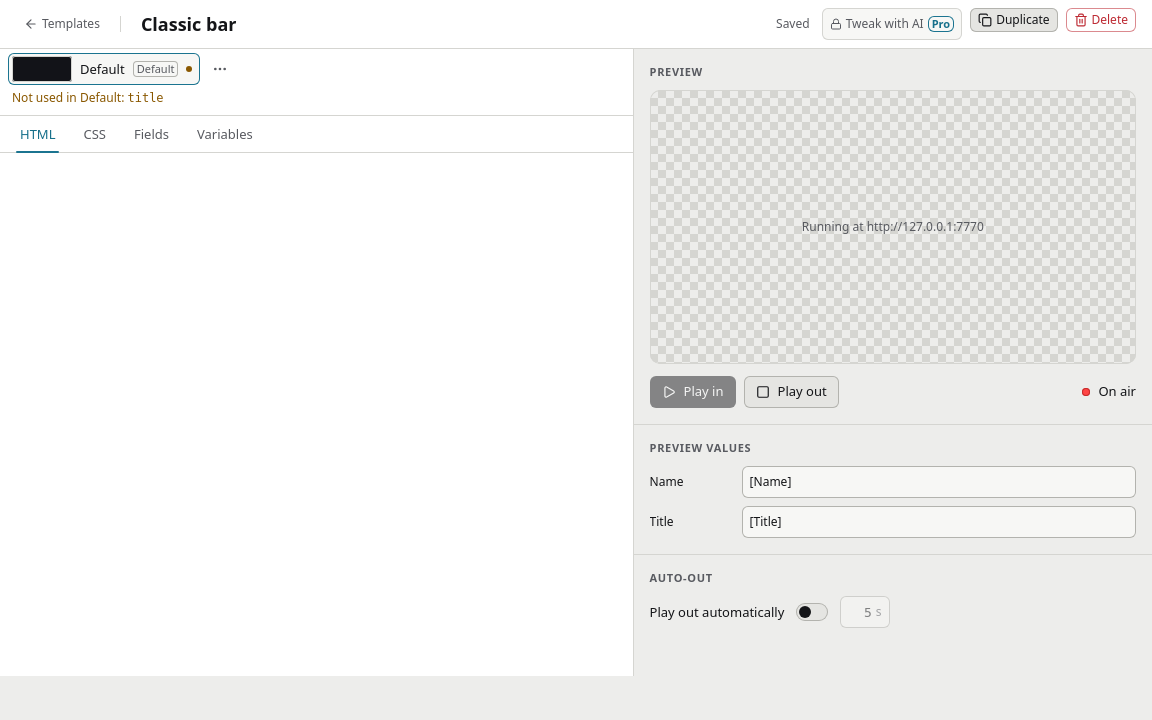
it: fields form › shows key validation messages
The width and height of the screenshot is (1152, 720).
Click the tab "Fields" at (152, 134), box [122,116,181,152]
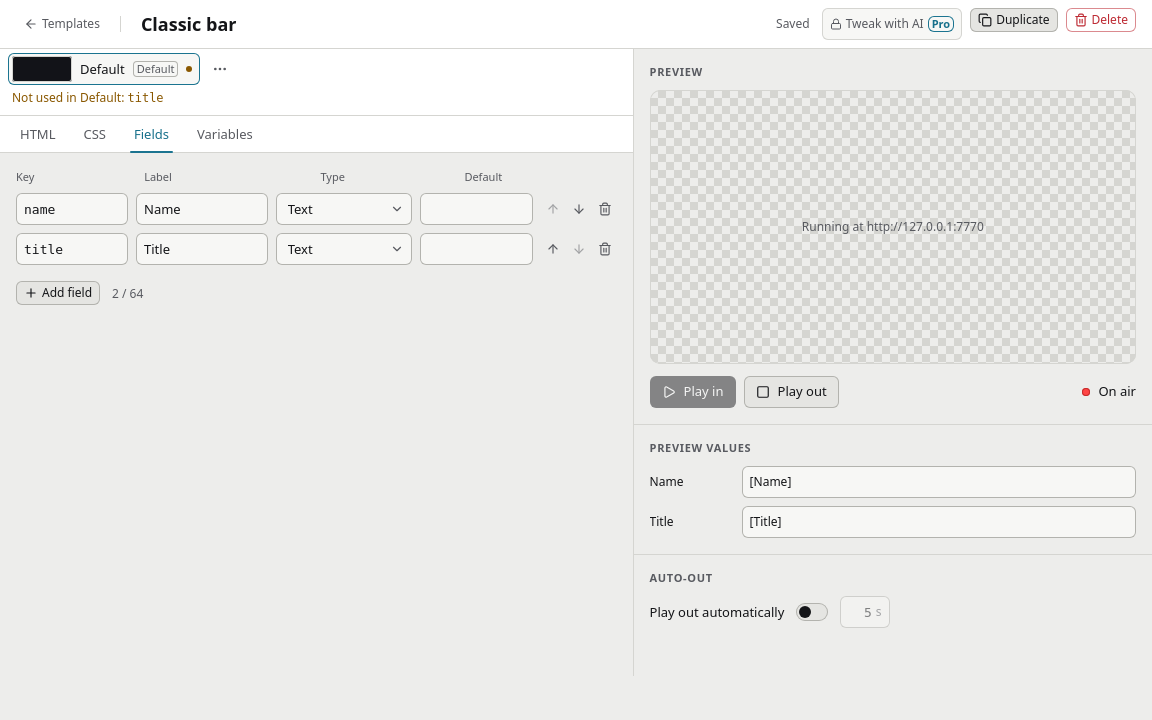
Replace the text in the field named "Field 1 key" with "1bad" at (72, 209), box [16,193,128,225]
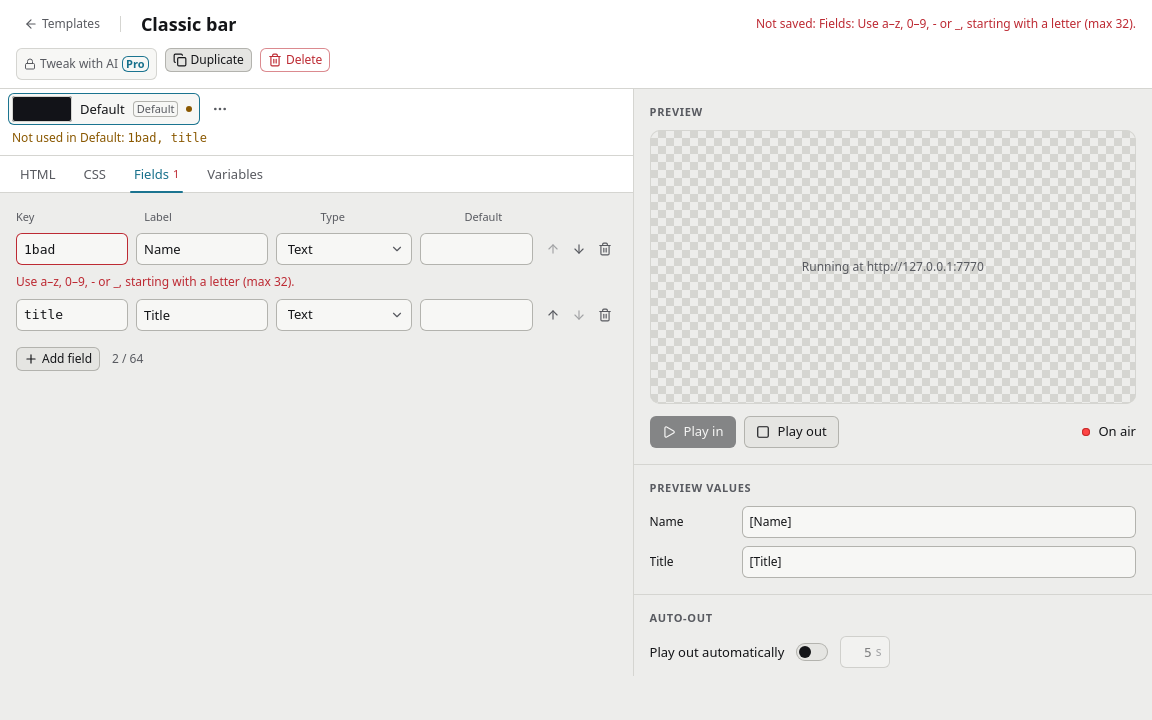
Expected: the text "Use a–z, 0–9, - or _, starting with a letter (max 32)." is shown, [16,273,294,290]
Clear the field named "Field 1 key" at (72, 249), box [16,233,128,265]
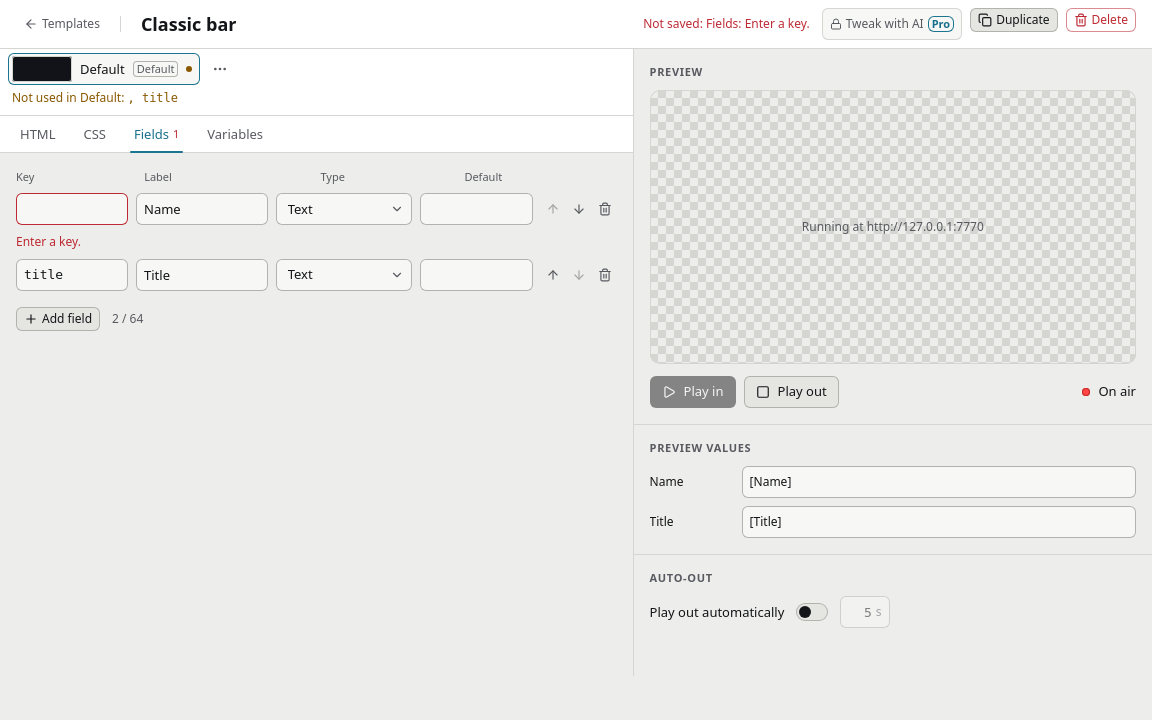
Expected: the text "Enter a key." is shown, [16,233,81,250]
Type "Name" into the field named "Field 1 key" at (72, 209), box [16,193,128,225]
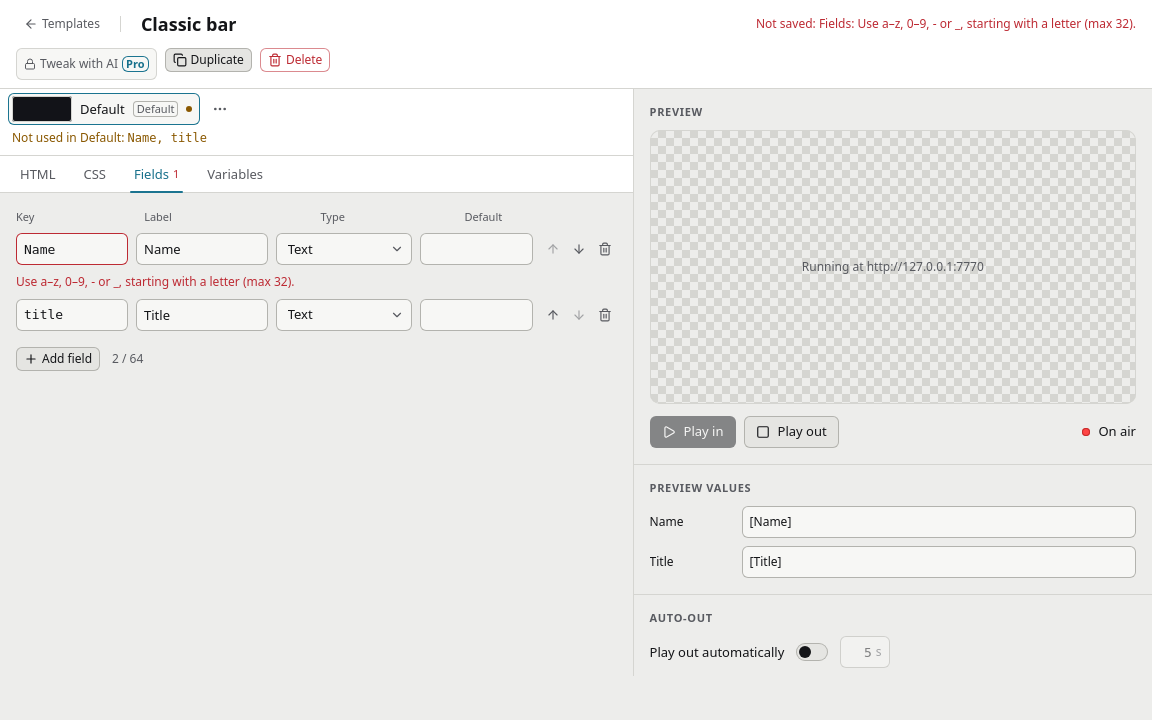
Expected: the text "Use a–z, 0–9, - or _, starting with a letter (max 32)." is shown, [16,273,294,290]
Replace the text in the field named "Field 1 key" with "headline" at (72, 249), box [16,233,128,265]
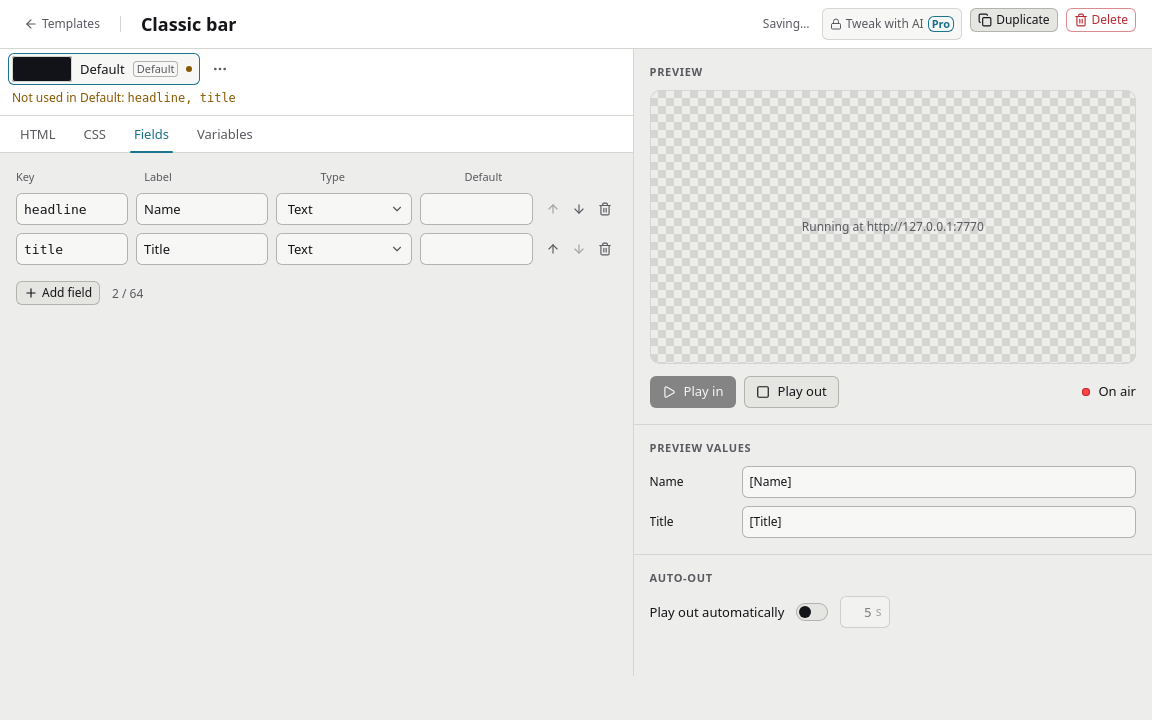
Expected: the text "Use a–z" is gone
Expected: the text "Saving…" is shown, [763,15,810,33]
